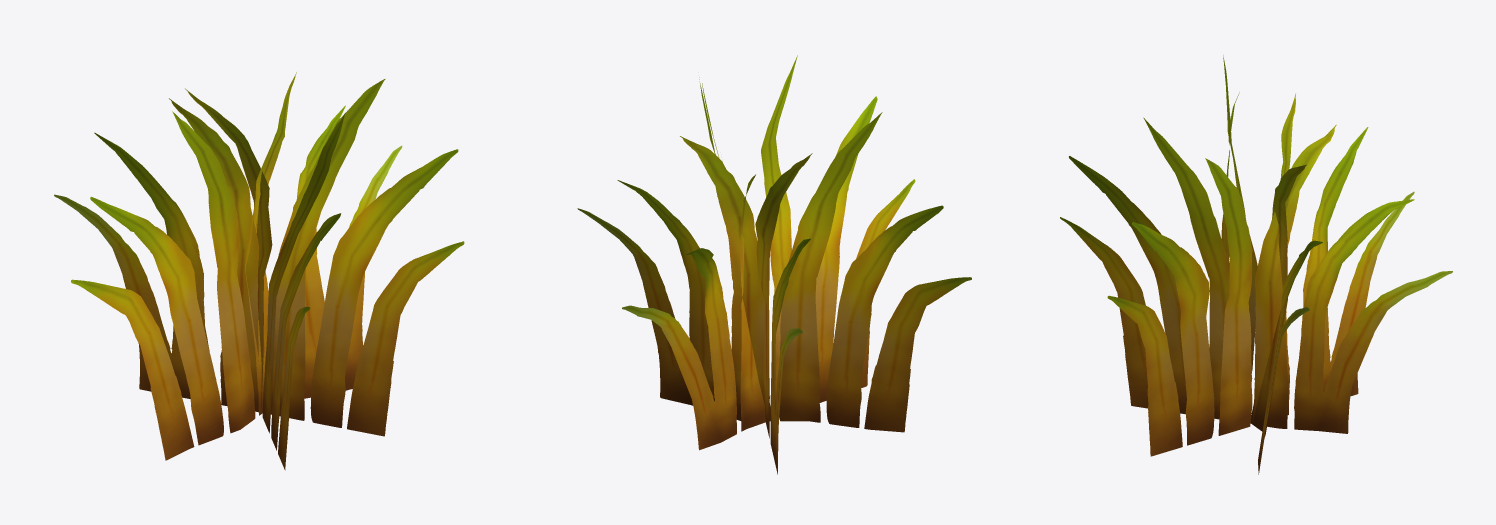
File: Grass01.fbx
3 views of the same model, side by side, from view 1: azimuth 30°, elevation 25°; view 2: azimuth 150°, elevation 25°; view 3: azimuth 270°, elevation 25° (orthographic). The views are drawn at different scales.
Parts seen in each view (by area): view 1: Grass01; view 2: Grass01; view 3: Grass01.
Boxes of the visible parts, left/top/right/bottom form: Grass01: left=54, top=72, right=464, bottom=470; Grass01: left=577, top=55, right=971, bottom=474; Grass01: left=1060, top=55, right=1452, bottom=474.
Bounding box in the file's own units: 1.13 × 0.9503 × 1.17.
1 material, 1 textured.
